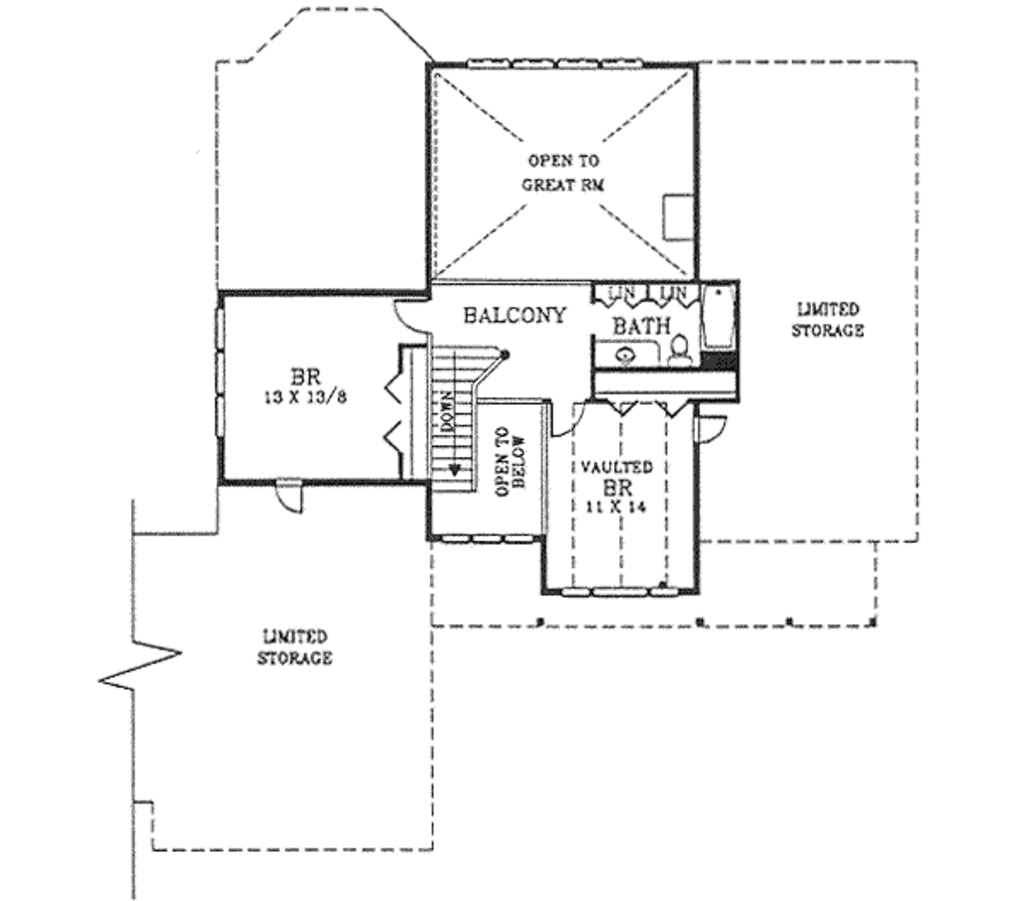door: (543, 395, 595, 449), (263, 470, 314, 523), (388, 288, 436, 337), (688, 405, 729, 447)
large_sink: (664, 324, 693, 363)
small_sink: (595, 333, 663, 365)
stairs: (431, 342, 514, 508)
tub: (699, 281, 740, 351)
window: (463, 45, 645, 74), (210, 309, 236, 437), (558, 584, 690, 604), (435, 529, 540, 542)
